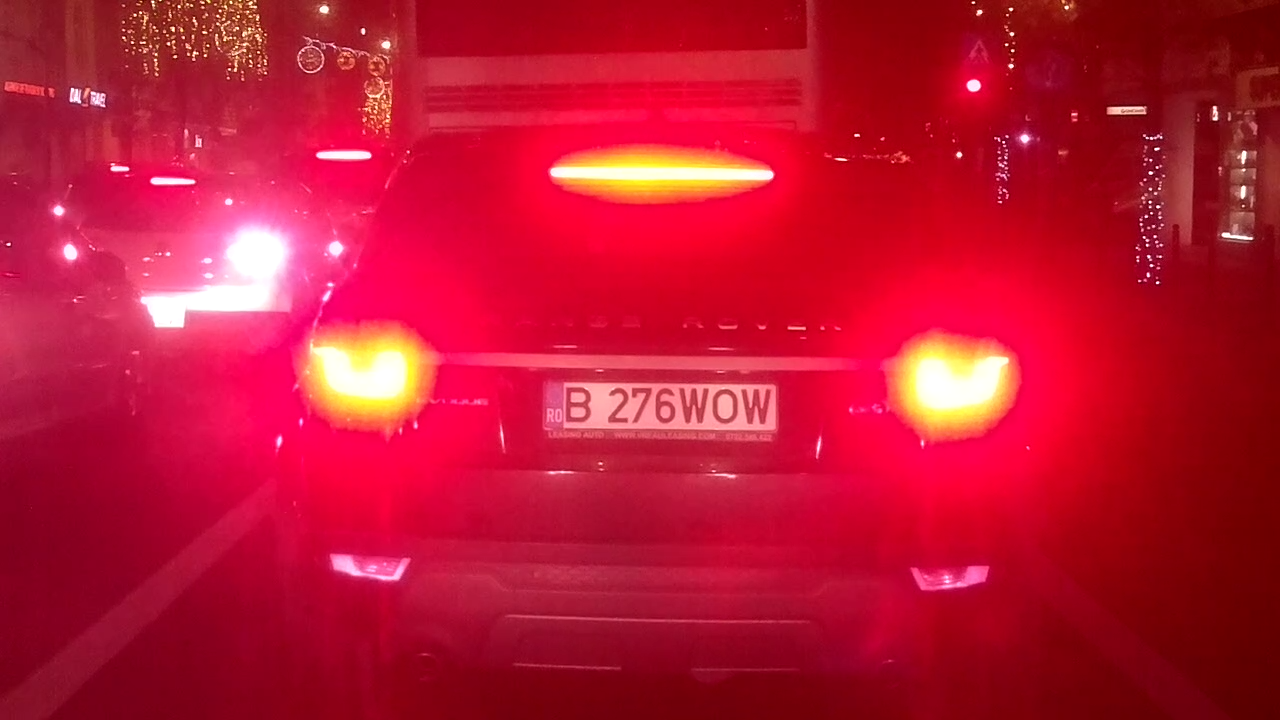license-plate: (535, 372, 785, 446)
